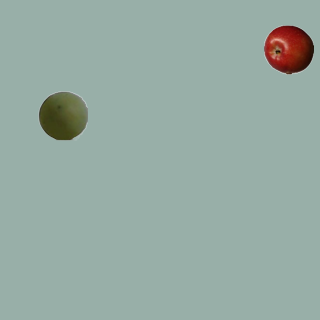Apple Braeburn: (263, 24, 313, 74)
Grape White 4: (37, 90, 87, 140)
